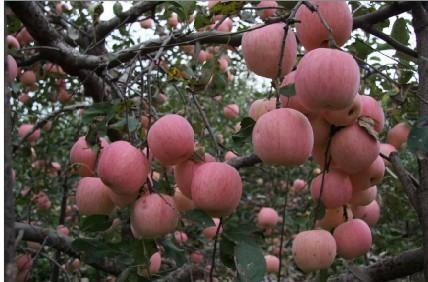apple: (249, 105, 314, 166), (297, 47, 362, 108), (98, 137, 148, 198), (187, 160, 241, 216), (129, 183, 178, 238), (146, 113, 196, 165), (291, 227, 335, 273)
